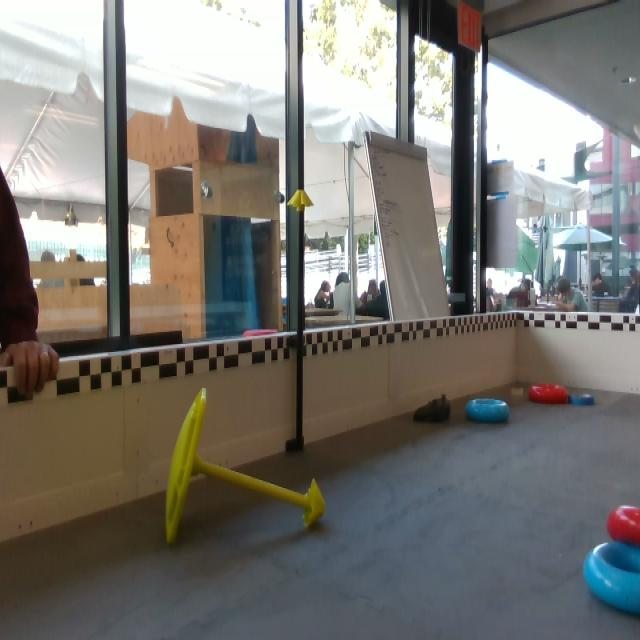Blue-Ring: (583, 541, 639, 617), (465, 399, 509, 425)
Mobile-Goal: (162, 388, 322, 547)
Red-Ring: (606, 505, 639, 549), (528, 384, 570, 404)
Yellow-Stake-Head: (303, 478, 327, 527), (288, 190, 314, 208)
